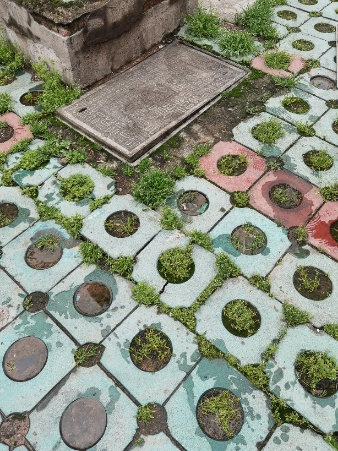uncovered: (50, 39, 251, 165)
